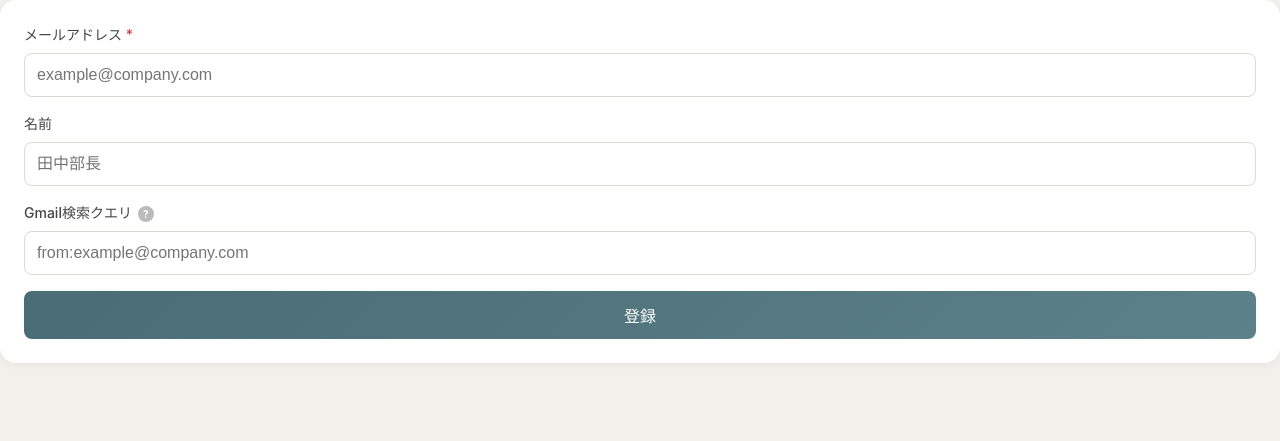
Test case: ContactForm › バリデーション › should show error for invalid email format
Type "invalid-email" into the field labelled "メールアドレス *" at (640,75), box [24,53,1256,97]
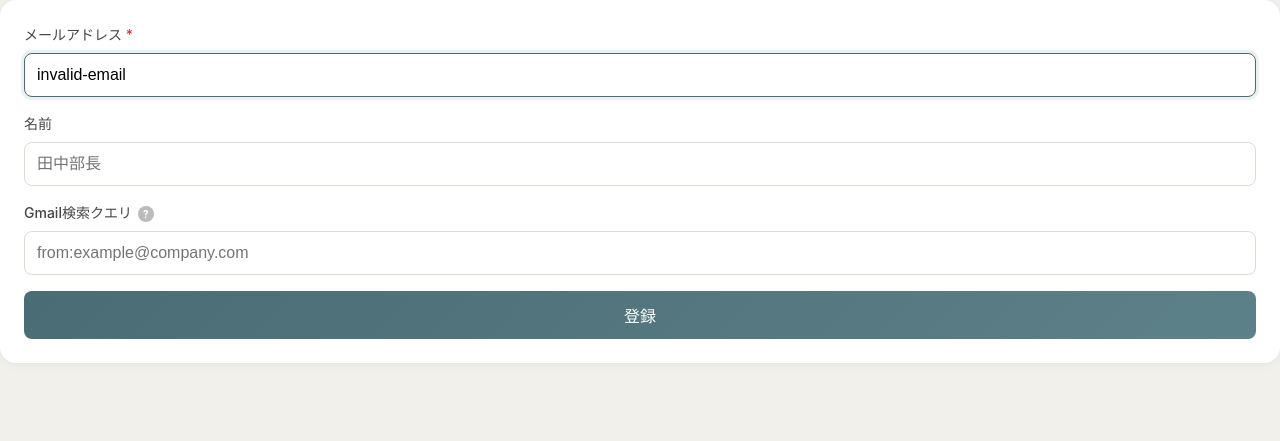
Click the button "登録" at (640,315), box [24,291,1256,339]
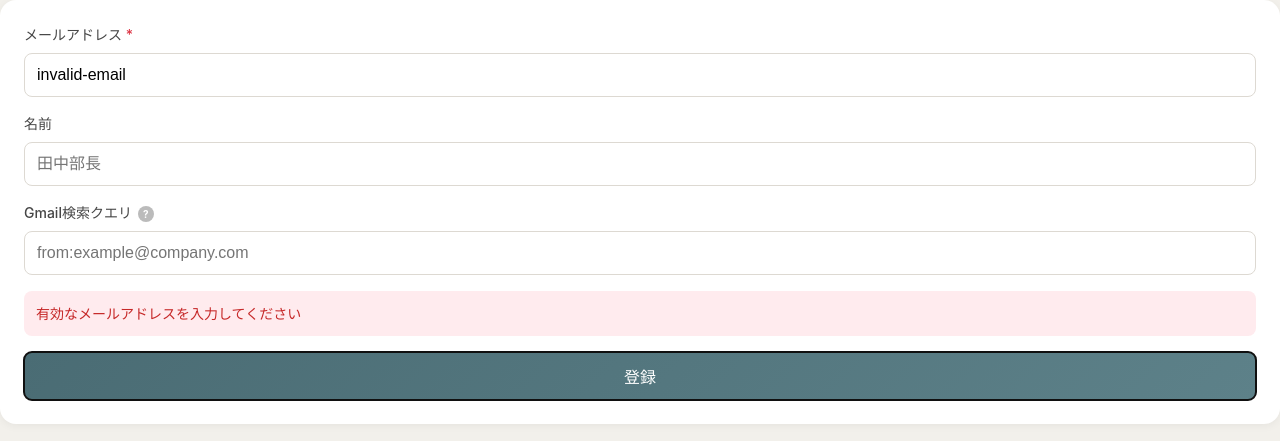
Now the text "有効なメールアドレスを入力してください" is shown, box [24,291,1256,336]
